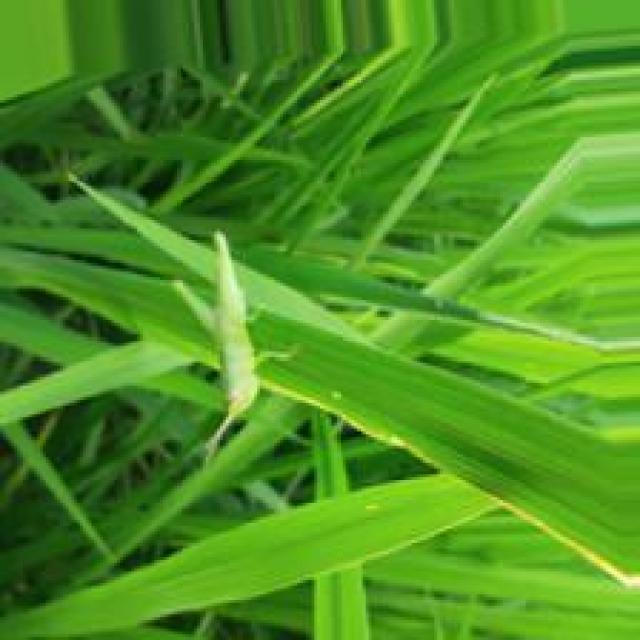Rice_Hispa: (491, 493, 637, 589)
